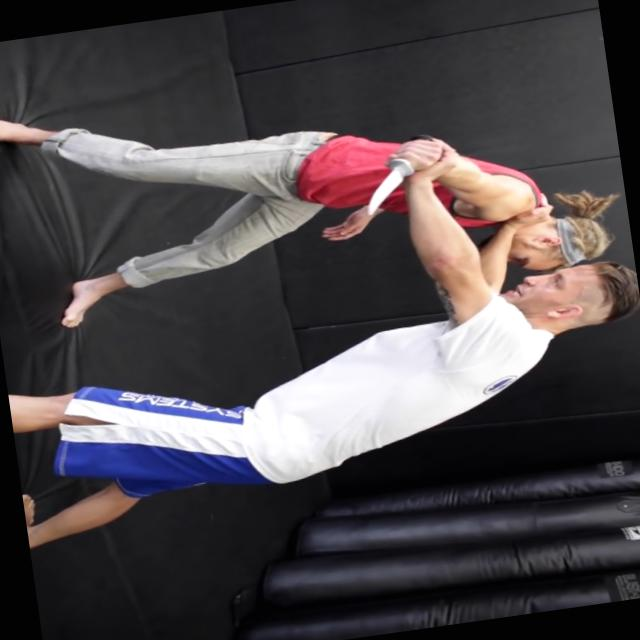knife: (348, 128, 449, 222)
